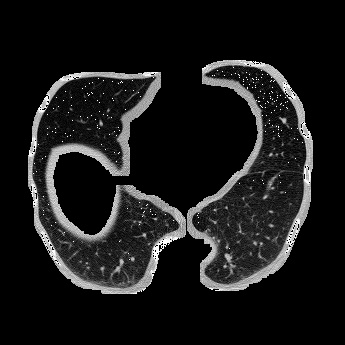PN: (281, 117, 287, 123)
